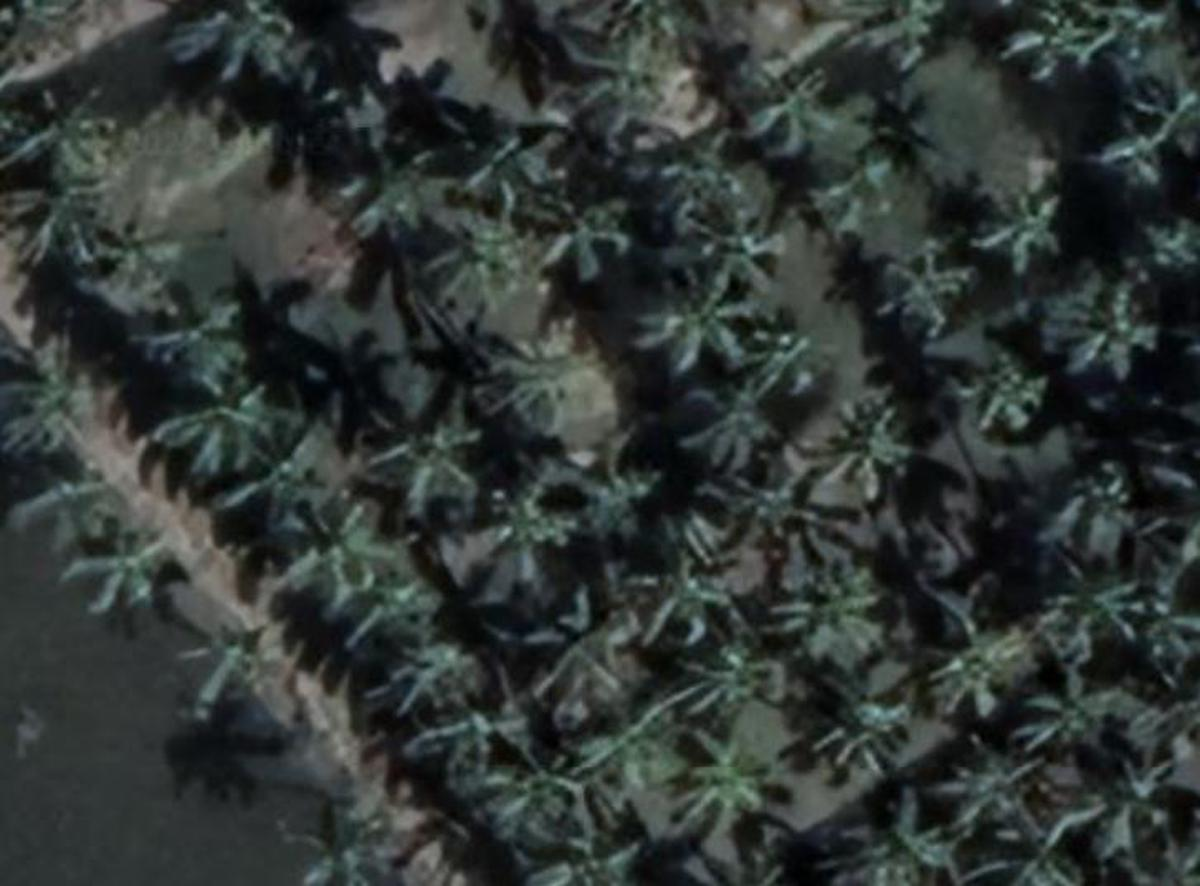coconut: (474, 300, 606, 434), (459, 451, 583, 583), (1029, 535, 1152, 667), (611, 444, 740, 565), (543, 24, 679, 138), (312, 130, 447, 244), (363, 386, 487, 510), (515, 583, 647, 697), (520, 163, 633, 295), (61, 497, 175, 623), (163, 614, 272, 742), (4, 165, 122, 282), (771, 550, 889, 667), (161, 355, 271, 472), (933, 715, 1046, 828), (806, 674, 920, 783), (649, 259, 763, 368), (952, 328, 1059, 444), (829, 790, 958, 886), (1047, 264, 1155, 378), (619, 537, 737, 641), (426, 661, 533, 775), (447, 100, 550, 218), (662, 621, 776, 727), (730, 42, 836, 155), (431, 196, 543, 302), (806, 391, 915, 499), (224, 424, 335, 530), (680, 188, 795, 290), (279, 790, 401, 886), (482, 728, 596, 829), (965, 176, 1076, 279), (8, 449, 123, 548), (877, 236, 981, 343), (720, 449, 821, 558), (363, 613, 466, 719), (914, 619, 1019, 722), (798, 140, 897, 249), (13, 77, 117, 180), (333, 545, 426, 657), (130, 285, 233, 386), (674, 730, 780, 828), (676, 360, 775, 464), (985, 796, 1097, 886), (910, 548, 1013, 641), (188, 0, 304, 80), (1052, 461, 1158, 548), (285, 487, 376, 588), (1085, 753, 1183, 846), (1117, 565, 1200, 674), (1077, 109, 1176, 196), (998, 0, 1100, 84), (525, 813, 639, 886), (1013, 659, 1112, 743), (644, 127, 750, 204), (0, 357, 82, 444), (859, 0, 953, 72), (1123, 218, 1200, 295), (1130, 57, 1200, 135)
